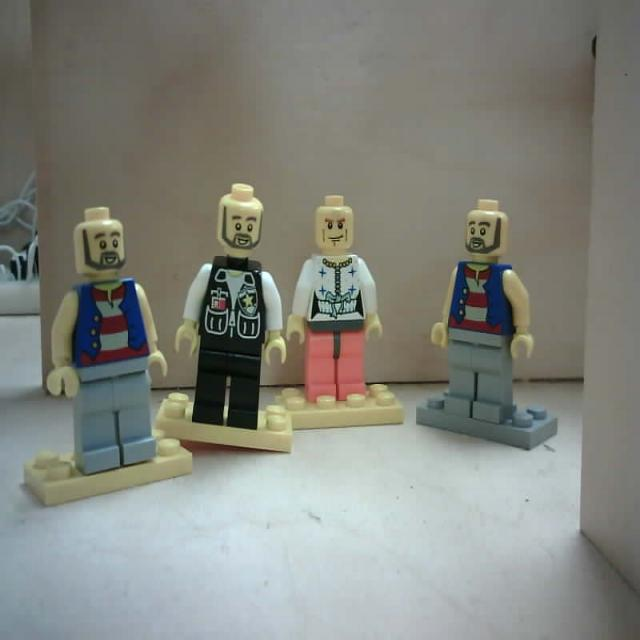Lego-People: (25, 208, 193, 507), (174, 182, 294, 438), (427, 194, 535, 432), (288, 194, 387, 410)
